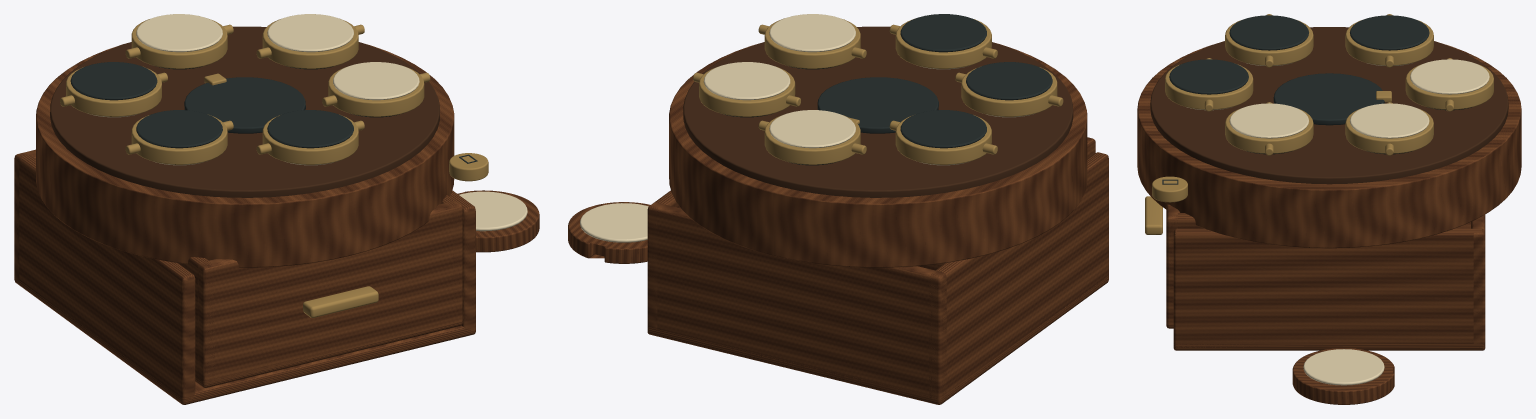
Rendered from P06_MoonMechanism.fbx.
3 renders of one model, left to right at view 1: azimuth 30°, elevation 25°; view 2: azimuth 150°, elevation 25°; view 3: azimuth 270°, elevation 25°, orthographic. The views are drawn at different scales.
Parts seen in each view (by area): view 1: Moon wooden housing.001, MoonRewardDrawer_End.002, Moon dark face.001, Storage cabinet side.008, Storage cabinet base.004, Missing center recess.001, Moon bright side.006, Moon bright side.007, Moon dark side.010, Moon dark side.009, Moon dark side.011, Moon bright side.008 (+15 smaller); view 2: Storage cabinet back.004, Moon wooden housing.001, Moon dark face.001, Storage cabinet side.008, Missing center recess.001, Storage cabinet base.004, Moon dark side.010, Moon bright side.007, Moon bright side.008, Moon bright side.006, Moon dark side.011, Moon dark side.009 (+9 smaller); view 3: Storage cabinet side.009, Moon wooden housing.001, Moon dark face.001, Missing center recess.001, Moon centerpiece.001, Moon medallion.001, Moon bright side.006, Moon dark side.009, Moon bright side.007, Moon bright side.008, Moon dark side.010, Moon dark side.011 (+12 smaller).
Part boxes in pixels (bbox=[...]): Moon wooden housing.001: bbox=[36, 42, 454, 267]; MoonRewardDrawer_End.002: bbox=[197, 200, 462, 384]; Moon dark face.001: bbox=[50, 26, 439, 197]; Storage cabinet side.008: bbox=[15, 155, 195, 400]; Storage cabinet base.004: bbox=[14, 274, 475, 404]; Missing center recess.001: bbox=[184, 77, 305, 133]; Moon bright side.006: bbox=[136, 14, 222, 52]; Moon bright side.007: bbox=[267, 14, 353, 52]; Moon dark side.010: bbox=[136, 110, 222, 148]; Moon dark side.009: bbox=[267, 110, 353, 148]; Moon dark side.011: bbox=[70, 62, 157, 100]; Moon bright side.008: bbox=[333, 62, 419, 100]; Storage cabinet back.004: bbox=[647, 202, 946, 401]; Moon wooden housing.001: bbox=[669, 42, 1087, 267]; Moon dark face.001: bbox=[683, 26, 1073, 197]; Storage cabinet side.008: bbox=[929, 152, 1108, 400]; Missing center recess.001: bbox=[817, 77, 938, 133]; Storage cabinet base.004: bbox=[647, 275, 1108, 404]; Moon dark side.010: bbox=[966, 62, 1052, 100]; Moon bright side.007: bbox=[703, 62, 790, 100]; Moon bright side.008: bbox=[769, 14, 855, 52]; Moon bright side.006: bbox=[769, 110, 855, 148]; Moon dark side.011: bbox=[900, 110, 986, 148]; Moon dark side.009: bbox=[900, 14, 986, 52]; Storage cabinet side.009: bbox=[1173, 228, 1483, 347]; Moon wooden housing.001: bbox=[1137, 41, 1521, 248]; Moon dark face.001: bbox=[1150, 27, 1508, 184]; Missing center recess.001: bbox=[1273, 73, 1384, 125]; Moon centerpiece.001: bbox=[1292, 348, 1394, 404]; Moon medallion.001: bbox=[1303, 349, 1384, 385]; Moon bright side.006: bbox=[1410, 59, 1489, 94]; Moon dark side.009: bbox=[1169, 59, 1248, 94]; Moon bright side.007: bbox=[1350, 103, 1429, 138]; Moon bright side.008: bbox=[1229, 103, 1308, 138]; Moon dark side.010: bbox=[1229, 15, 1308, 50]; Moon dark side.011: bbox=[1350, 15, 1429, 50].
Size of the model in its own units: 0.696 by 0.32 by 0.53.
Materials: 5 (1 with a texture image).
